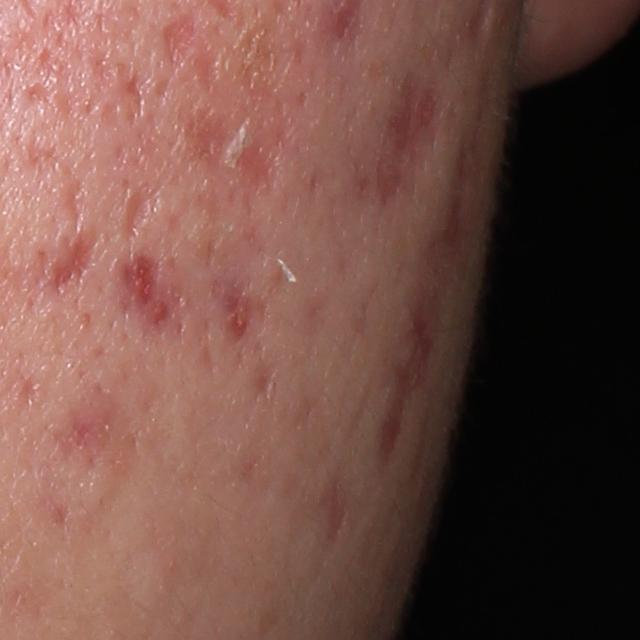atrophic_scar: (373, 234, 450, 473), (370, 73, 443, 202), (185, 107, 283, 196), (47, 224, 105, 304), (157, 15, 214, 92), (315, 466, 354, 559), (61, 168, 90, 241), (120, 179, 154, 240), (126, 68, 148, 122), (250, 362, 279, 401)
